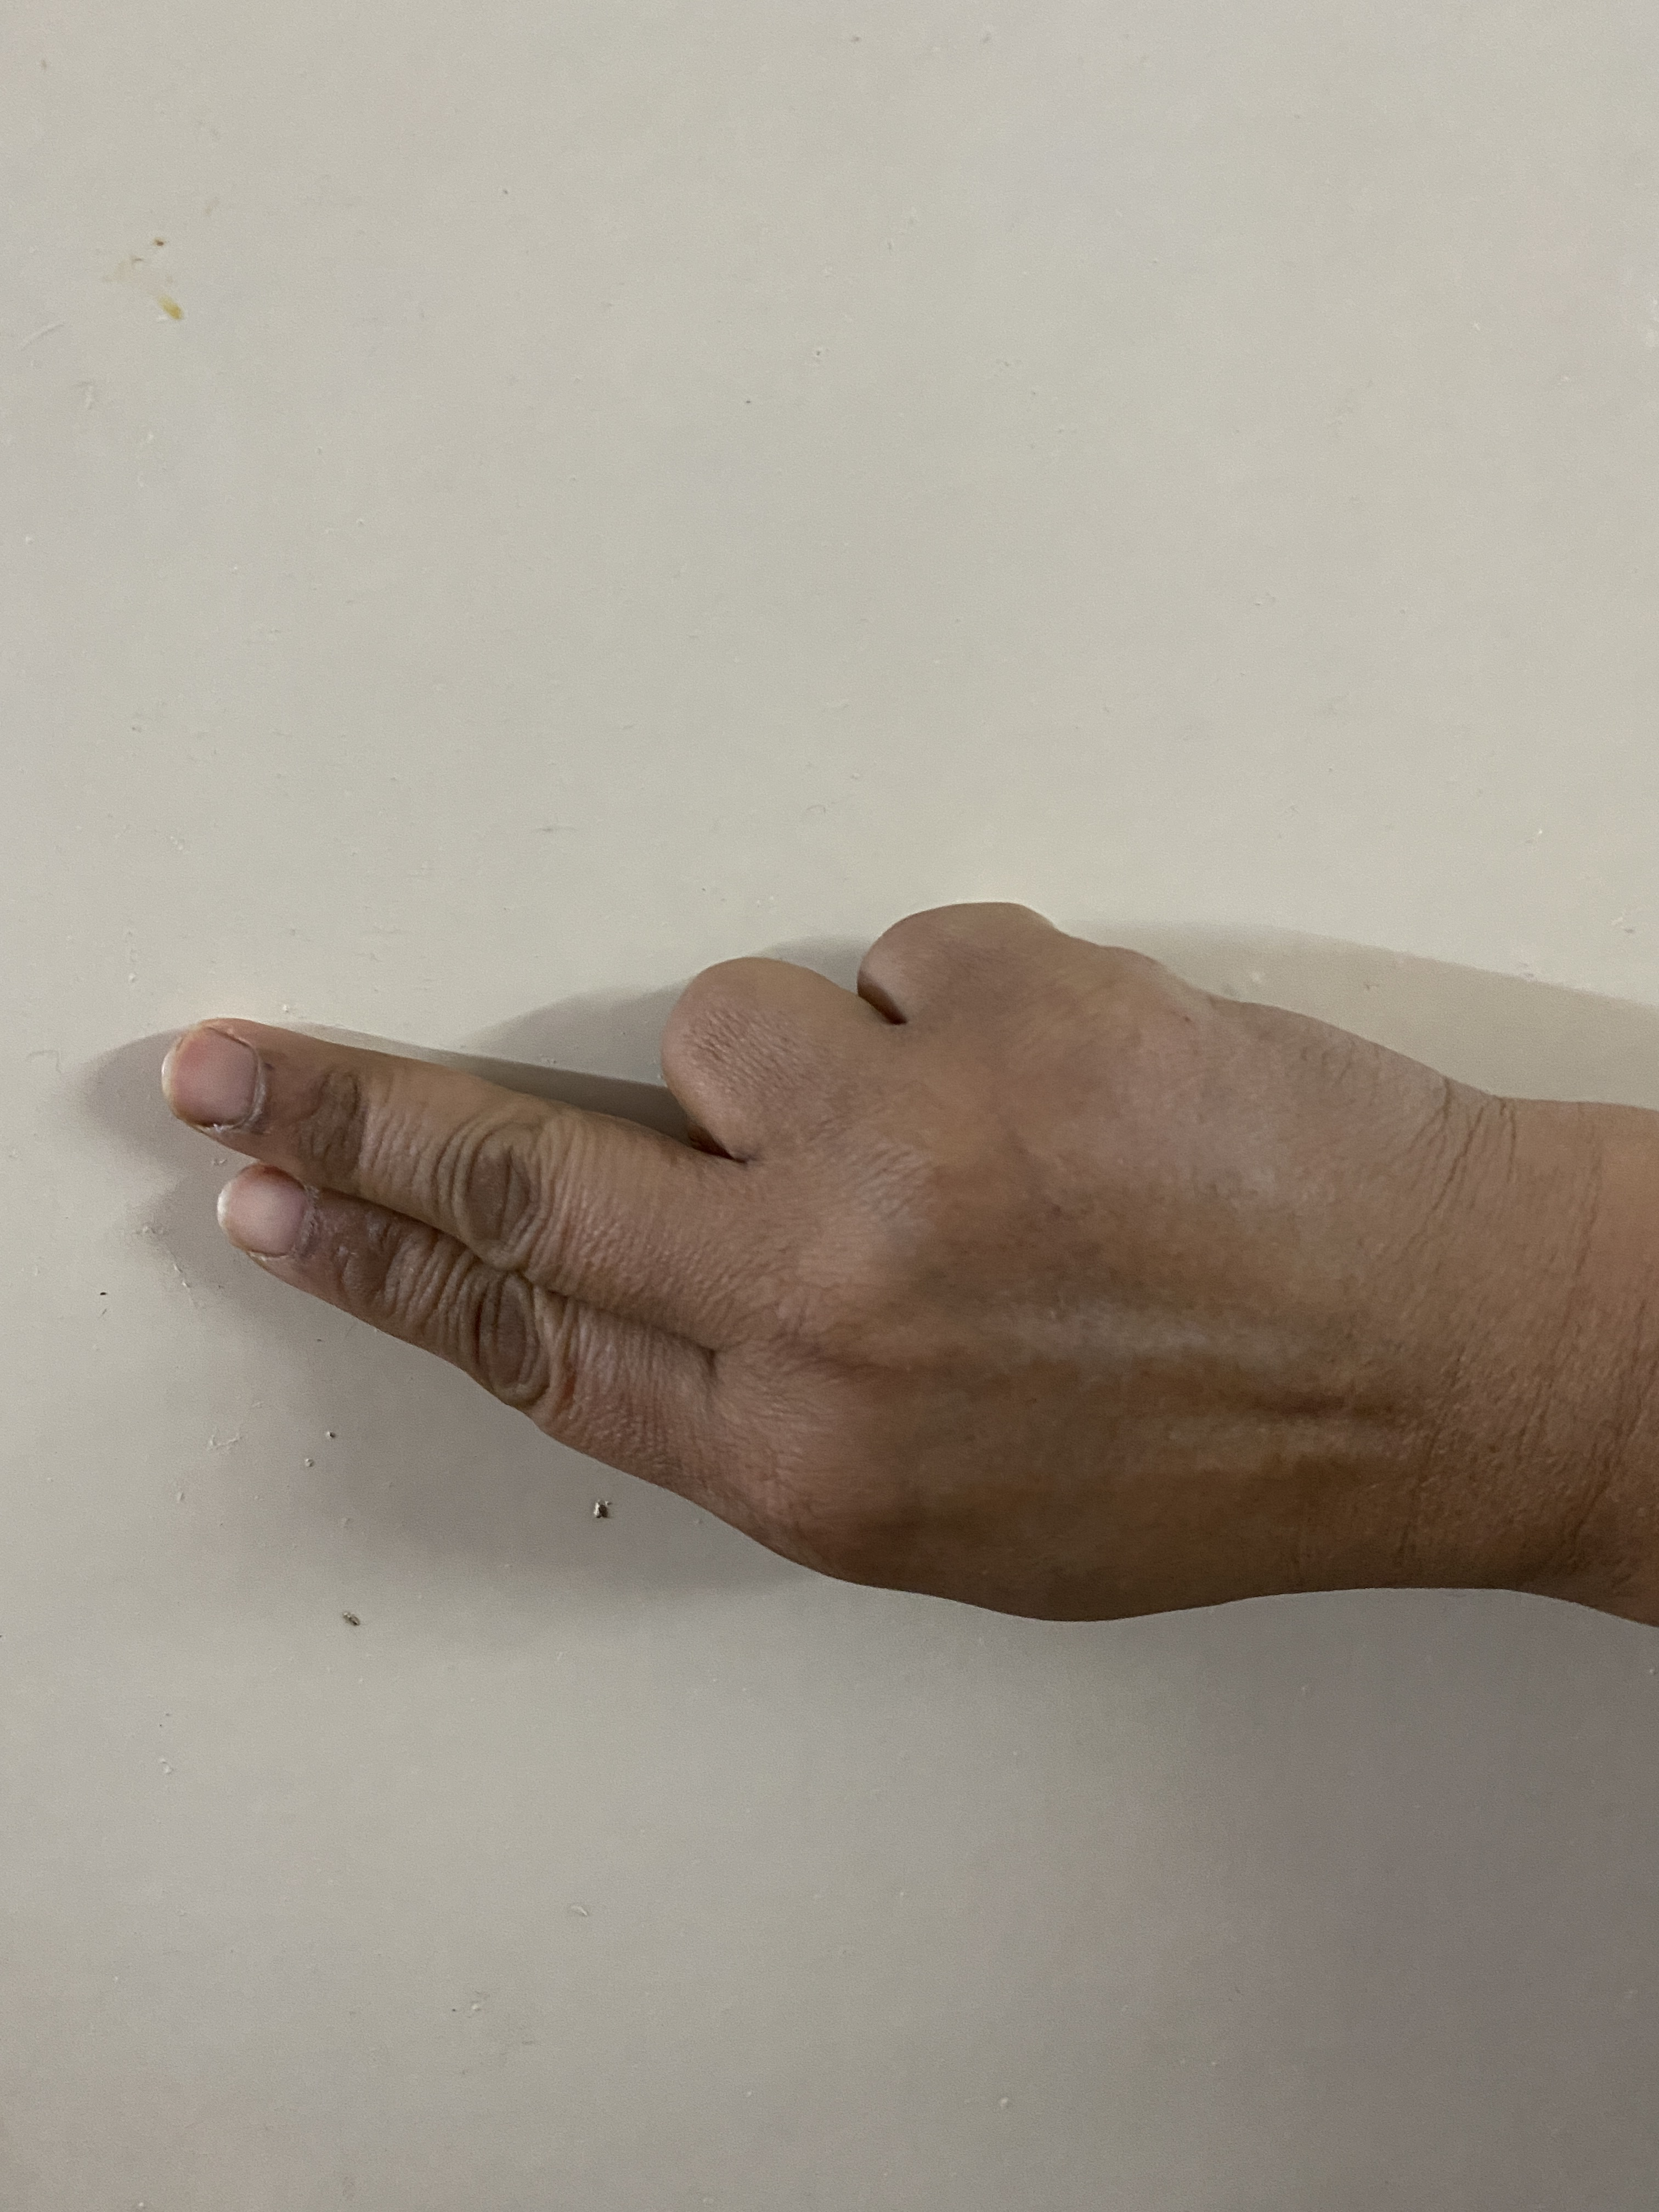right: (131, 583, 1659, 1876)
